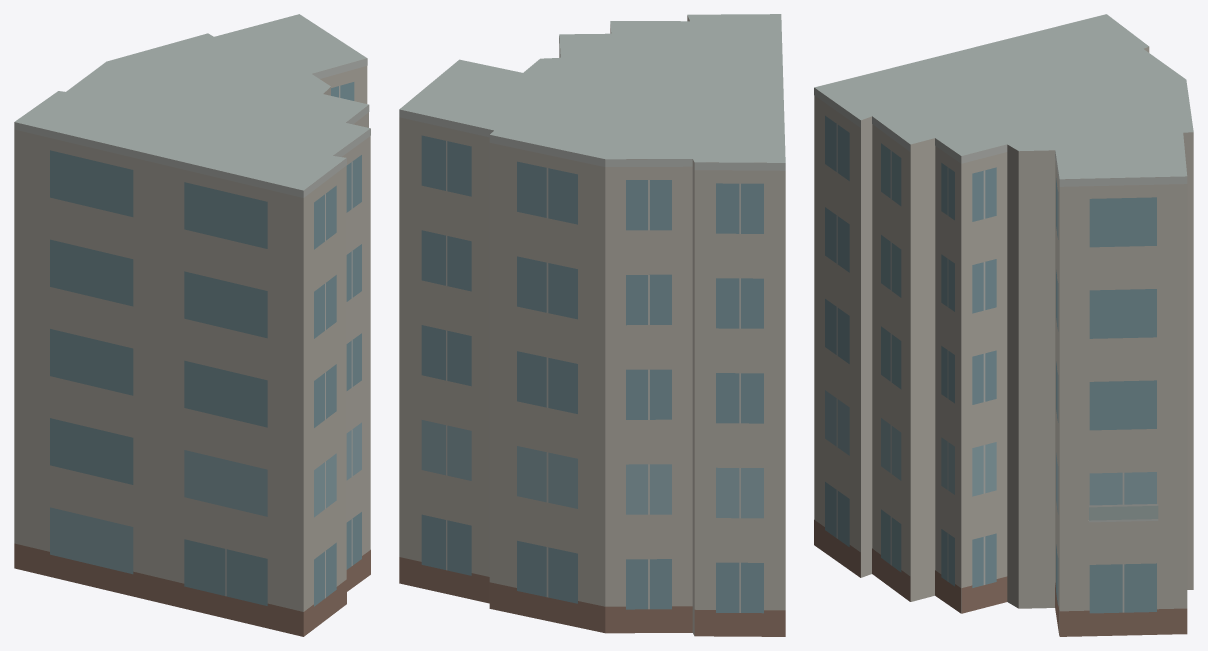
File: survey-upis-32796465.glb
3 views of the same model, side by side, from view 1: azimuth 30°, elevation 25°; view 2: azimuth 150°, elevation 25°; view 3: azimuth 270°, elevation 25° (orthographic). The views are drawn at different scales.
Parts seen in each view (by area): view 1: survey-upis-32796465.tmp; view 2: survey-upis-32796465.tmp; view 3: survey-upis-32796465.tmp.
Boxes of the visible parts, x1,y1,x2,y2 form: survey-upis-32796465.tmp: (14, 14, 370, 636); survey-upis-32796465.tmp: (399, 14, 785, 636); survey-upis-32796465.tmp: (814, 14, 1193, 636).
Size of the model in its own units: 11.28 by 14.55 by 10.95.
